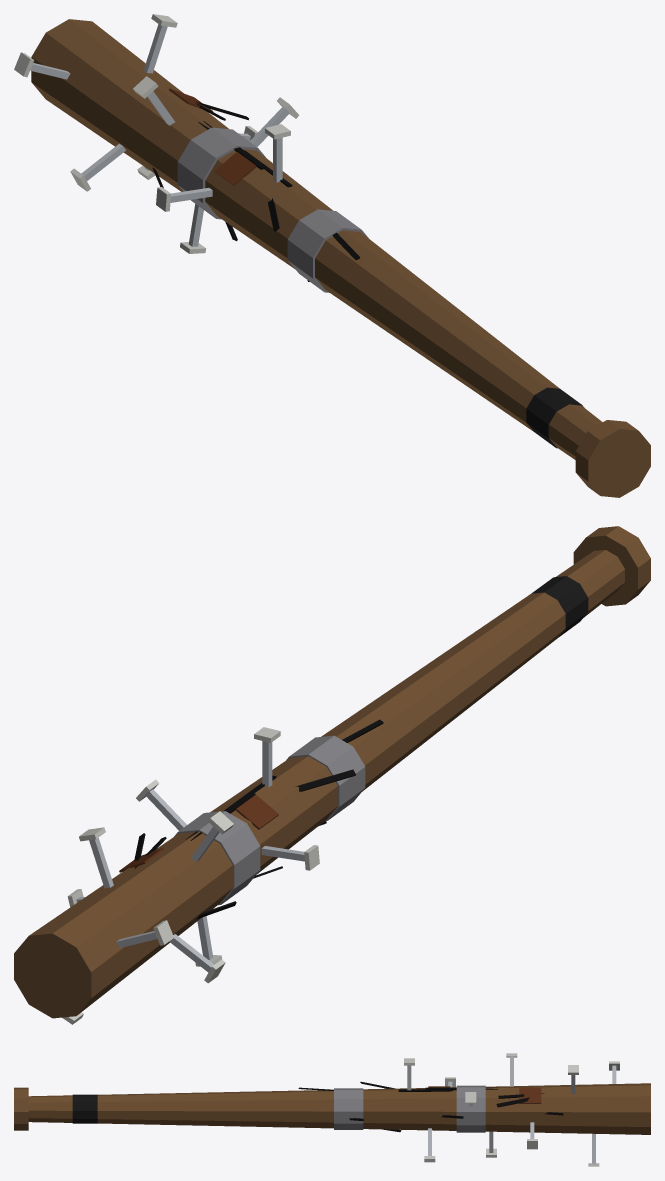
Rendered from bat_nails_w2.glb.
The picture shows the model from 3 angles, top to bottom: view 1: azimuth 30°, elevation 25°; view 2: azimuth 150°, elevation 25°; view 3: azimuth 270°, elevation 25°; orthographic projection. The views are drawn at different scales.
Parts seen in each view (by area): view 1: bat_nails_w2; view 2: bat_nails_w2; view 3: bat_nails_w2.
Boxes of the visible parts, bbox=[...] form: bat_nails_w2: bbox=[14, 14, 650, 497]; bat_nails_w2: bbox=[14, 526, 650, 1024]; bat_nails_w2: bbox=[14, 1053, 650, 1166].
Bounding box in the file's own units: 0.1506 × 0.1512 × 0.87.
